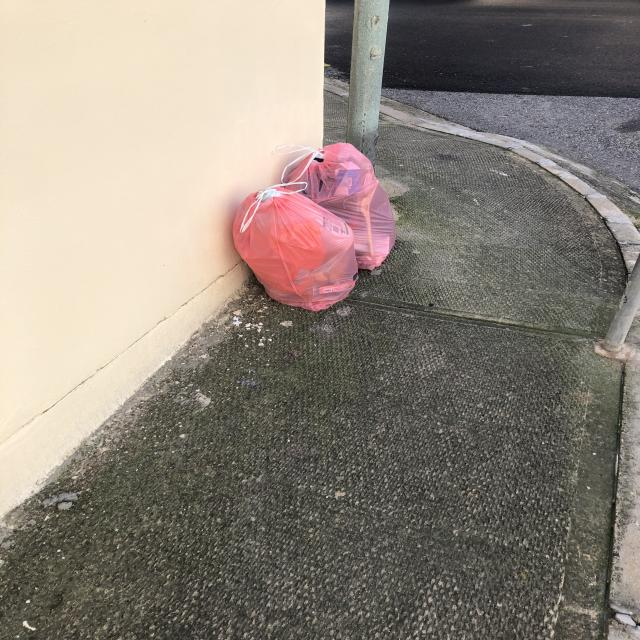Other: (234, 187, 359, 315), (292, 141, 400, 267)
